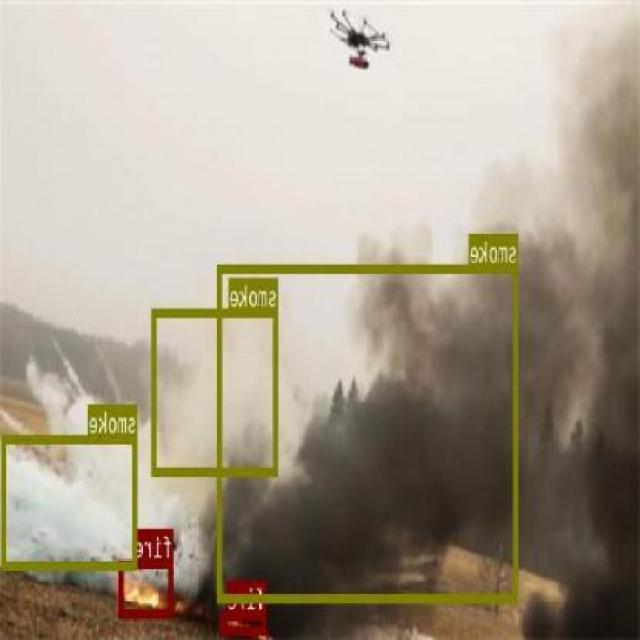Fire: (120, 558, 174, 616), (222, 610, 267, 632)
Smoke: (218, 264, 518, 601), (536, 241, 622, 619), (153, 308, 279, 474), (508, 37, 632, 200), (2, 434, 138, 570)
